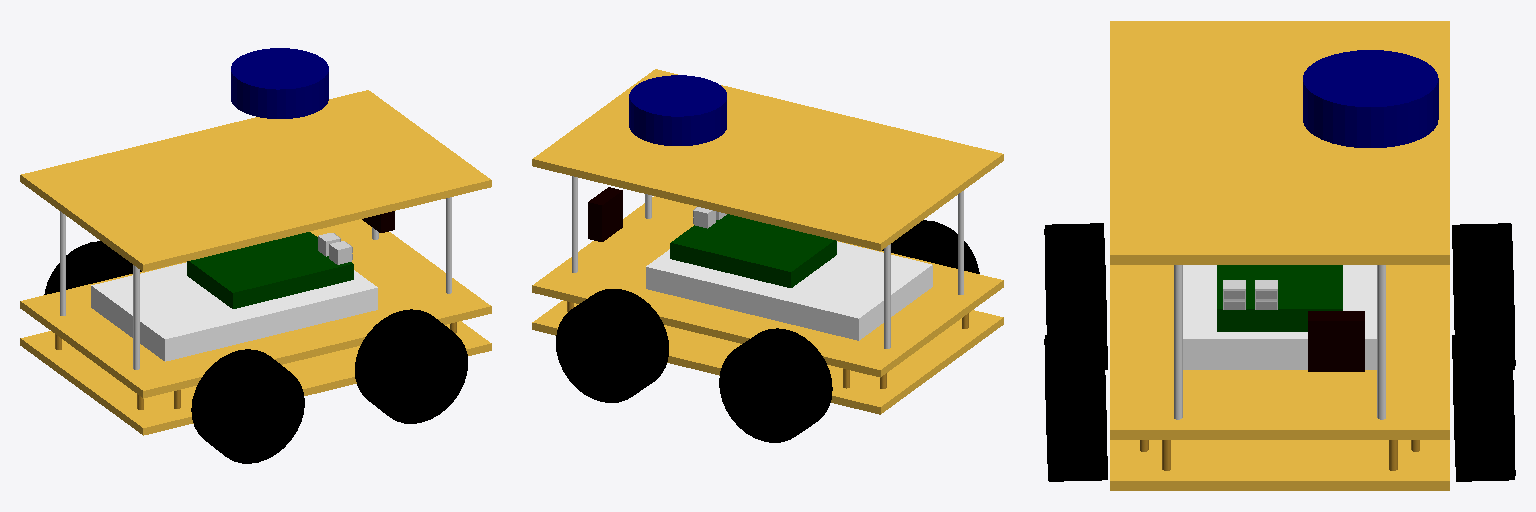
URDF robot description (sentinel):
<?xml version="1.0" ?>
<!-- =================================================================================== -->
<!-- |    This document was autogenerated by xacro from sentinel.urdf.xacro            | -->
<!-- |    EDITING THIS FILE BY HAND IS NOT RECOMMENDED                                 | -->
<!-- =================================================================================== -->
<robot name="sentinel">
  <!-- Define materials -->
  <material name="NavyBlue">
    <color rgba="0.0 0.0 0.5 1.0"/>
  </material>
  <material name="WoodYellow">
    <color rgba="1.0 0.8 0.3 0.5"/>
  </material>
  <material name="BlackWheel">
    <color rgba="0.0 0.0 0.0 1.0"/>
  </material>
  <material name="Red">
    <color rgba="0.1 0.0 0.0 1.0"/>
  </material>
  <material name="White">
    <color rgba="0.9 0.9 0.9 1.0"/>
  </material>
  <material name="AbsWhite">
    <color rgba="1 1 1 1.0"/>
  </material>
  <material name="Grey">
    <color rgba="0.7 0.7 0.7 1.0"/>
  </material>
  <material name="DarkGold">
    <color rgba="0.8 0.6 0.2 1.0"/>
  </material>
  <material name="DarkGreen">
    <color rgba="0.0 0.3 0.0 1.0"/>
  </material>
  <link name="base_link">
    <visual>
      <geometry>
        <!--- boy en yukseklik !-->
        <box size="0.245 0.15 0.005"/>
      </geometry>
      <origin rpy="0.0 0.0 0.0" xyz="0 0 0.04"/>
      <material name="WoodYellow"/>
    </visual>
  </link>
  <link name="odom"/>

  <link name="mid_link">
    <visual>
      <geometry>
        <!--- boy en yukseklik !-->
        <box size="0.245 0.15 0.005"/>
      </geometry>
      <origin rpy="0.0 0.0 0.0" xyz="0 0 0.04"/>
      <material name="WoodYellow"/>
    </visual>
  </link>
  <link name="top_link">
    <visual>
      <geometry>
        <!--- boy en yukseklik !-->
        <box size="0.245 0.15 0.005"/>
      </geometry>
      <origin rpy="0.0 0.0 0.0" xyz="0 0 0.04"/>
      <material name="WoodYellow"/>
    </visual>
  </link>
  <!-- PowerBank -->
  <link name="powerbank">
    <visual>
      <geometry>
        <box size="0.15 0.09 0.015"/>
      </geometry>
      <origin rpy="0.0 0.0 0.0" xyz="0.0 0.0 0.0"/>
      <material name="AbsWhite"/>
    </visual>
  </link>
  <!-- Raspberry -->
  <link name="raspberry">
    <visual>
      <geometry>
        <box size="0.085 0.056 0.011"/>
      </geometry>
      <origin rpy="0.0 0.0 0.0" xyz="0.0 0.0 0.0"/>
      <material name="DarkGreen"/>
    </visual>
  </link>
  <!-- Lidar !-->
  <link name="lidar">
    <visual>
      <geometry>
        <cylinder length="0.02" radius="0.03"/>
      </geometry>
      <origin rpy="0.0 0.0 0.0" xyz="0.0 0.0 0.0"/>
      <material name="NavyBlue"/>
    </visual>
  </link>
  <!-- Camera !-->
  <link name="camera">
    <visual>
      <geometry>
        <box size="0.025 0.025 0.01"/>
      </geometry>
      <origin rpy="0.0 0.0 0.0" xyz="0.0 0.0 0.0"/>
      <material name="Red"/>
    </visual>
  </link>
  <link name="usb_left">
    <visual>
      <geometry>
        <box size="0.01 0.01 0.01"/>
      </geometry>
      <origin rpy="0.0 0.0 0.0" xyz="0.00 0.00 0.00"/>
      <material name="White"/>
    </visual>
    <visual>
      <geometry>
        <box size="0.004 0.009 0.004"/>
      </geometry>
      <origin rpy="0.0 0.0 0.0" xyz="0.004 0.00 0.0025"/>
      <material name="Grey"/>
    </visual>
    <visual>
      <geometry>
        <box size="0.004 0.009 0.004"/>
      </geometry>
      <origin rpy="0.0 0.0 0.0" xyz="0.004 0.00 -0.0025"/>
      <material name="Grey"/>
    </visual>
  </link>
  <link name="usb_right">
    <visual>
      <geometry>
        <box size="0.01 0.01 0.01"/>
      </geometry>
      <origin rpy="0.0 0.0 0.0" xyz="0.00 0.00 0.00"/>
      <material name="White"/>
    </visual>
    <visual>
      <geometry>
        <box size="0.004 0.009 0.004"/>
      </geometry>
      <origin rpy="0.0 0.0 0.0" xyz="0.004 0.00 0.0025"/>
      <material name="Grey"/>
    </visual>
    <visual>
      <geometry>
        <box size="0.004 0.009 0.004"/>
      </geometry>
      <origin rpy="0.0 0.0 0.0" xyz="0.004 0.00 -0.0025"/>
      <material name="Grey"/>
    </visual>
  </link>
  <link name="left_front_wheel">
    <visual>
      <geometry>
        <cylinder length="0.026" radius="0.0325"/>
      </geometry>
      <origin rpy="0.0 0.0 0.0" xyz="0.0 0.0 0.0"/>
      <material name="BlackWheel"/>
    </visual>
  </link>
  <link name="left_back_wheel">
    <visual>
      <geometry>
        <cylinder length="0.026" radius="0.0325"/>
      </geometry>
      <origin rpy="0.0 0.0 0.0" xyz="0.0 0.0 0.0"/>
      <material name="BlackWheel"/>
    </visual>
  </link>
  <link name="right_front_wheel">
    <visual>
      <geometry>
        <cylinder length="0.026" radius="0.0325"/>
      </geometry>
      <origin rpy="0.0 0.0 0.0" xyz="0.0 0.0 0.0"/>
      <material name="BlackWheel"/>
    </visual>
  </link>
  <link name="right_back_wheel">
    <visual>
      <geometry>
        <cylinder length="0.026" radius="0.0325"/>
      </geometry>
      <origin rpy="0.0 0.0 0.0" xyz="0.0 0.0 0.0"/>
      <material name="BlackWheel"/>
    </visual>
  </link>
  <link name="base_mid_left_front">
    <visual>
      <geometry>
        <cylinder length="0.020" radius="0.002"/>
      </geometry>
      <origin rpy="0.0 0.0 0.0" xyz="0.0 0.0 0.0"/>
      <material name="DarkGold"/>
    </visual>
  </link>
  <link name="base_mid_left_front_2">
    <visual>
      <geometry>
        <cylinder length="0.020" radius="0.002"/>
      </geometry>
      <origin rpy="0.0 0.0 0.0" xyz="0.0 0.0 0.0"/>
      <material name="DarkGold"/>
    </visual>
  </link>
  <link name="base_mid_right_front">
    <visual>
      <geometry>
        <cylinder length="0.020" radius="0.002"/>
      </geometry>
      <origin rpy="0.0 0.0 0.0" xyz="0.0 0.0 0.0"/>
      <material name="DarkGold"/>
    </visual>
  </link>
  <link name="base_mid_right_front_2">
    <visual>
      <geometry>
        <cylinder length="0.020" radius="0.002"/>
      </geometry>
      <origin rpy="0.0 0.0 0.0" xyz="0.0 0.0 0.0"/>
      <material name="DarkGold"/>
    </visual>
  </link>
  <link name="base_mid_left_back">
    <visual>
      <geometry>
        <cylinder length="0.020" radius="0.002"/>
      </geometry>
      <origin rpy="0.0 0.0 0.0" xyz="0.0 0.0 0.0"/>
      <material name="DarkGold"/>
    </visual>
  </link>
  <link name="base_mid_left_back_2">
    <visual>
      <geometry>
        <cylinder length="0.020" radius="0.002"/>
      </geometry>
      <origin rpy="0.0 0.0 0.0" xyz="0.0 0.0 0.0"/>
      <material name="DarkGold"/>
    </visual>
  </link>
  <link name="base_mid_right_back">
    <visual>
      <geometry>
        <cylinder length="0.020" radius="0.002"/>
      </geometry>
      <origin rpy="0.0 0.0 0.0" xyz="0.0 0.0 0.0"/>
      <material name="DarkGold"/>
    </visual>
  </link>
  <link name="base_mid_right_back_2">
    <visual>
      <geometry>
        <cylinder length="0.020" radius="0.002"/>
      </geometry>
      <origin rpy="0.0 0.0 0.0" xyz="0.0 0.0 0.0"/>
      <material name="DarkGold"/>
    </visual>
  </link>
  <link name="mid_top_left_front">
    <visual>
      <geometry>
        <cylinder length="0.080" radius="0.002"/>
      </geometry>
      <origin rpy="0.0 0.0 0.0" xyz="0.0 0.0 0.0"/>
      <material name="White"/>
    </visual>
  </link>
  <link name="mid_top_left_back">
    <visual>
      <geometry>
        <cylinder length="0.080" radius="0.002"/>
      </geometry>
      <origin rpy="0.0 0.0 0.0" xyz="0.0 0.0 0.0"/>
      <material name="White"/>
    </visual>
  </link>
  <link name="mid_top_right_front">
    <visual>
      <geometry>
        <cylinder length="0.080" radius="0.002"/>
      </geometry>
      <origin rpy="0.0 0.0 0.0" xyz="0.0 0.0 0.0"/>
      <material name="White"/>
    </visual>
  </link>
  <link name="mid_top_right_back">
    <visual>
      <geometry>
        <cylinder length="0.080" radius="0.002"/>
      </geometry>
      <origin rpy="0.0 0.0 0.0" xyz="0.0 0.0 0.0"/>
      <material name="White"/>
    </visual>
  </link>
  <!-- Body base-mid Joint !-->
  <joint name="base_mid_joint" type="fixed">
    <parent link="base_link"/>
    <child link="mid_link"/>
    <origin rpy="0.0 0.0 0.0" xyz="0.0 0.0 0.025"/>
  </joint>
  <!-- Base-powerbank joint-->
  <joint name="base_powerbank" type="fixed">
    <parent link="base_link"/>
    <child link="powerbank"/>
    <origin rpy="0.0 0.0 0.0" xyz="-0.015 0.0 0.075"/>
  </joint>
  <!-- Base-raspberry joint-->
  <joint name="base_raspberry" type="fixed">
    <parent link="base_link"/>
    <child link="raspberry"/>
    <origin rpy="0.0 0.0 0.0" xyz="0.01 0.0 0.088"/>
  </joint>
  <!-- Base usb_joint left joint-->
  <joint name="base_usb_left" type="fixed">
    <parent link="base_link"/>
    <child link="usb_left"/>
    <origin rpy="0.0 0.0 0.0" xyz="0.048 -0.02 0.0985"/>
  </joint>
  <!-- Base usb_joint right joint-->
  <joint name="base_usb_right" type="fixed">
    <parent link="base_link"/>
    <child link="usb_right"/>
    <origin rpy="0.0 0.0 0.0" xyz="0.048 -0.006 0.0985"/>
  </joint>
  <!-- Body base-top Joint !-->
  <joint name="base_top_joint" type="fixed">
    <parent link="base_link"/>
    <child link="top_link"/>
    <origin rpy="0.0 0.0 0.0" xyz="0.00 0.00 0.11"/>
  </joint>
  <!-- Body & Lidar Joint !-->
  <joint name="base_lidar_joint" type="fixed">
    <parent link="base_link"/>
    <child link="lidar"/>
    <origin rpy="0.0 0.0 0.0" xyz="0.04 0.04 0.19"/>
  </joint>
  <!-- Body & Camera Joint !-->
  <joint name="base_camera_joint" type="fixed">
    <parent link="base_link"/>
    <child link="camera"/>
    <origin rpy="1.57 0.0 1.57" xyz="0.1 0.025 0.1"/>
  </joint>
  <!-- Body & Left Front Wheel Joint !-->
  <joint name="base_left_front_wheel_joint" type="continuous">
    <parent link="base_link"/>
    <child link="left_front_wheel"/>
    <origin rpy="1.6 0.0 0.0" xyz="0.0575 0.09 0.048"/>
    <axis xyz="0.0 0.0 -1.0"/>
  </joint>
  <!-- Body & Right Front Wheel Joint !-->
  <joint name="base_right_front_joint" type="continuous">
    <parent link="base_link"/>
    <child link="right_front_wheel"/>
    <origin rpy="1.6 0.0 0.0" xyz="0.0575 -0.09 0.048"/>
    <axis xyz="0.0 0.0 -1.0"/>
  </joint>
  <!-- Body & Right Front Wheel Joint !-->
  <joint name="base_left_back_joint" type="continuous">
    <parent link="base_link"/>
    <child link="left_back_wheel"/>
    <origin rpy="1.6 0.0 0.0" xyz="-0.0575 0.09 0.048"/>
    <axis xyz="0.0 0.0 -1.0"/>
  </joint>
  <!-- Body & Right Front Wheel Joint !-->
  <joint name="base_right_back_joint" type="continuous">
    <parent link="base_link"/>
    <child link="right_back_wheel"/>
    <origin rpy="1.6 0.0 0.0" xyz="-0.0575 -0.09 0.048"/>
    <axis xyz="0.0 0.0 -1.0"/>
  </joint>
  <!-- Cylindder base-mid left front Joint!-->
  <joint name="base_mid_left_joint" type="fixed">
    <parent link="base_link"/>
    <child link="base_mid_left_front"/>
    <origin rpy="0 0.0 0" xyz="0.11 0.05 0.0525"/>
  </joint>
  <!-- Cylindder base-mid left front2 Joint!-->
  <joint name="base_mid_left_joint_2" type="fixed">
    <parent link="base_link"/>
    <child link="base_mid_left_front_2"/>
    <origin rpy="0 0.0 0" xyz="0.09 0.06 0.0525"/>
  </joint>
  <!-- Cylindder base-mid right front Joint!-->
  <joint name="base_mid_right_joint" type="fixed">
    <parent link="base_link"/>
    <child link="base_mid_right_front"/>
    <origin rpy="0 0.0 0" xyz="0.11 -0.05 0.0525"/>
  </joint>
  <!-- Cylindder base-mid right front2 Joint!-->
  <joint name="base_mid_right_joint_2" type="fixed">
    <parent link="base_link"/>
    <child link="base_mid_right_front_2"/>
    <origin rpy="0 0.0 0" xyz="0.09 -0.06 0.0525"/>
  </joint>
  <!-- Cylindder base-mid left back Joint!-->
  <joint name="base_mid_left_back_joint" type="fixed">
    <parent link="base_link"/>
    <child link="base_mid_left_back"/>
    <origin rpy="0 0.0 0" xyz="-0.11 0.05 0.0525"/>
  </joint>
  <!-- Cylindder base-mid left back2 Joint!-->
  <joint name="base_mid_left_back_joint_2" type="fixed">
    <parent link="base_link"/>
    <child link="base_mid_left_back_2"/>
    <origin rpy="0 0.0 0" xyz="-0.09 0.06 0.0525"/>
  </joint>
  <!-- Cylindder base-mid right back Joint!-->
  <joint name="base_mid_right_back_joint" type="fixed">
    <parent link="base_link"/>
    <child link="base_mid_right_back"/>
    <origin rpy="0 0.0 0" xyz="-0.11 -0.05 0.0525"/>
  </joint>
  <!-- Cylindder base-mid right back2 Joint!-->
  <joint name="base_mid_right_back_joint_2" type="fixed">
    <parent link="base_link"/>
    <child link="base_mid_right_back_2"/>
    <origin rpy="0 0.0 0" xyz="-0.09 -0.06 0.0525"/>
  </joint>
  <!-- Cylindder mid-top left front Joint!-->
  <joint name="mid_top_left_front_joint" type="fixed">
    <parent link="base_link"/>
    <child link="mid_top_left_front"/>
    <origin rpy="0 0.0 0" xyz="0.11 0.045 0.1075"/>
  </joint>
  <!-- Cylindder mid-top left front Joint!-->
  <joint name="mid_top_right_front_joint" type="fixed">
    <parent link="base_link"/>
    <child link="mid_top_right_front"/>
    <origin rpy="0 0.0 0" xyz="0.11 -0.045 0.1075"/>
  </joint>
  <!-- Cylindder mid-top left front Joint!-->
  <joint name="mid_top_left_back_joint" type="fixed">
    <parent link="base_link"/>
    <child link="mid_top_left_back"/>
    <origin rpy="0 0.0 0" xyz="-0.11 0.045 0.1075"/>
  </joint>
  <!-- Cylindder mid-top left front Joint!-->
  <joint name="mid_top_right_back_joint" type="fixed">
    <parent link="base_link"/>
    <child link="mid_top_right_back"/>
    <origin rpy="0 0.0 0" xyz="-0.11 -0.045 0.1075"/>
  </joint>
    <!-- Joint to connect odom to base_link (fixed transform) -->
  <joint name="odom_to_base_link" type="fixed">
    <parent link="odom"/>
    <child link="base_link"/>
    <origin xyz="0 0 0" rpy="0 0 0"/>
  </joint>
</robot>

--- What the picture shows (computed from the rendered views, not written in the file) ---
Views: 3 orthographic renders of the robot side by side, from view 1: azimuth 30°, elevation 25°; view 2: azimuth 150°, elevation 25°; view 3: azimuth 270°, elevation 25°.
Robot: sentinel — 26 links, 25 joints (4 continuous, 21 fixed); root link odom; default pose: all joints at 0.
Visible links, largest first — view 1: top_link, mid_link, powerbank, right_front_wheel, right_back_wheel, base_link, raspberry, lidar, left_back_wheel, mid_top_right_back, mid_top_left_back, mid_top_right_front; view 2: top_link, mid_link, powerbank, left_back_wheel, left_front_wheel, base_link, raspberry, lidar, right_back_wheel, camera, mid_top_left_back, mid_top_right_back (+1 smaller); view 3: top_link, mid_link, base_link, lidar, powerbank, left_front_wheel, right_front_wheel, right_back_wheel, left_back_wheel, raspberry, camera, mid_top_left_front (+3 smaller).
Boxes of the visible links, x1,y1,x2,y2 form: top_link: (20, 90, 491, 271); mid_link: (20, 219, 491, 398); powerbank: (91, 262, 377, 361); right_front_wheel: (355, 309, 467, 423); right_back_wheel: (191, 349, 304, 463); base_link: (20, 321, 491, 435); raspberry: (187, 232, 353, 308); lidar: (231, 48, 328, 118); left_back_wheel: (44, 241, 141, 294); mid_top_right_back: (133, 265, 139, 369); mid_top_left_back: (60, 211, 65, 315); mid_top_right_front: (446, 197, 451, 293); top_link: (532, 69, 1003, 250); mid_link: (532, 196, 1003, 377); powerbank: (646, 241, 932, 340); left_back_wheel: (719, 328, 832, 442); left_front_wheel: (556, 289, 668, 402); base_link: (532, 300, 1003, 414); raspberry: (670, 214, 836, 287); lidar: (629, 75, 726, 145); right_back_wheel: (882, 220, 979, 273); camera: (588, 187, 622, 241); mid_top_left_back: (884, 244, 890, 348); mid_top_right_back: (958, 191, 963, 294); top_link: (1110, 21, 1449, 264); mid_link: (1110, 265, 1449, 439); base_link: (1110, 440, 1449, 490); lidar: (1303, 50, 1438, 147); powerbank: (1183, 265, 1376, 369); left_front_wheel: (1452, 333, 1515, 481); right_front_wheel: (1044, 333, 1107, 481); right_back_wheel: (1044, 223, 1107, 369); left_back_wheel: (1452, 223, 1515, 369); raspberry: (1217, 265, 1342, 331); camera: (1308, 311, 1364, 371); mid_top_left_front: (1377, 265, 1385, 419).
Size in the robot's own frame: 0.245 by 0.2079 by 0.1849 metres.
Geometry: primitives only (box / cylinder / sphere), no mesh files.